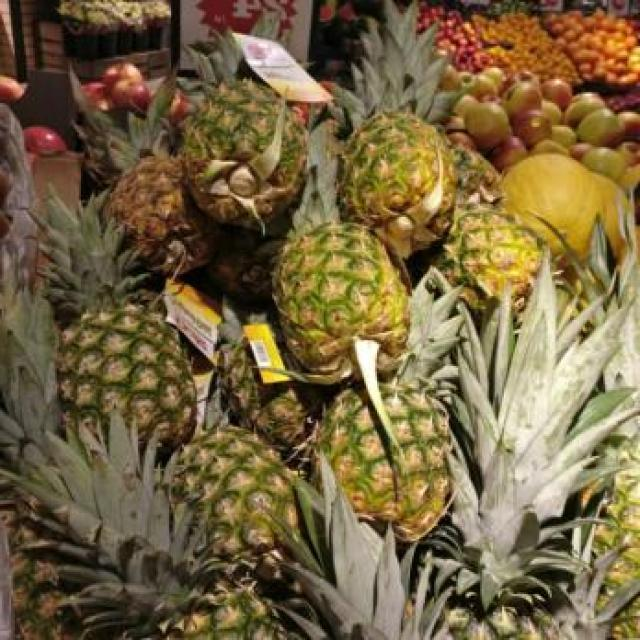pineapple: (14, 416, 288, 639), (39, 196, 195, 453), (319, 269, 462, 539), (272, 121, 409, 381), (335, 0, 454, 258), (274, 121, 408, 341), (82, 85, 218, 276), (180, 32, 306, 229), (435, 148, 542, 311), (171, 426, 298, 554), (216, 300, 309, 448), (435, 209, 541, 311)
